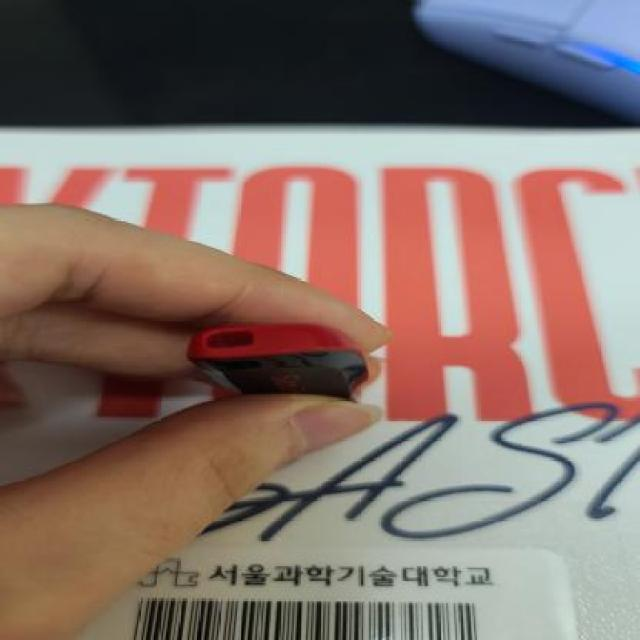Flashdisk: (183, 320, 382, 405)
